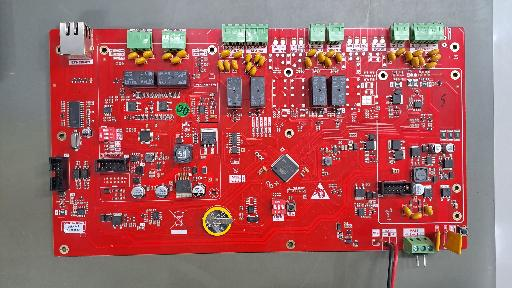var: (444, 230, 463, 255), (405, 49, 413, 66), (411, 56, 421, 69), (435, 230, 441, 251), (403, 203, 411, 218), (424, 205, 433, 216), (410, 213, 424, 220), (387, 52, 396, 62), (395, 48, 406, 56), (418, 55, 425, 67), (324, 50, 336, 57), (429, 54, 441, 61), (428, 49, 440, 56), (177, 50, 187, 58), (324, 57, 332, 67), (307, 49, 317, 57), (258, 55, 266, 65), (142, 51, 153, 58), (170, 57, 181, 64), (136, 57, 147, 64), (305, 57, 312, 68), (318, 52, 325, 63), (231, 60, 238, 71), (425, 62, 437, 68), (128, 52, 138, 59), (250, 66, 257, 76), (233, 51, 243, 58), (220, 50, 230, 57), (245, 53, 252, 63), (254, 52, 261, 62), (336, 52, 342, 63), (162, 53, 173, 59), (412, 50, 423, 56), (224, 60, 230, 71), (218, 61, 224, 71), (246, 61, 252, 71)
